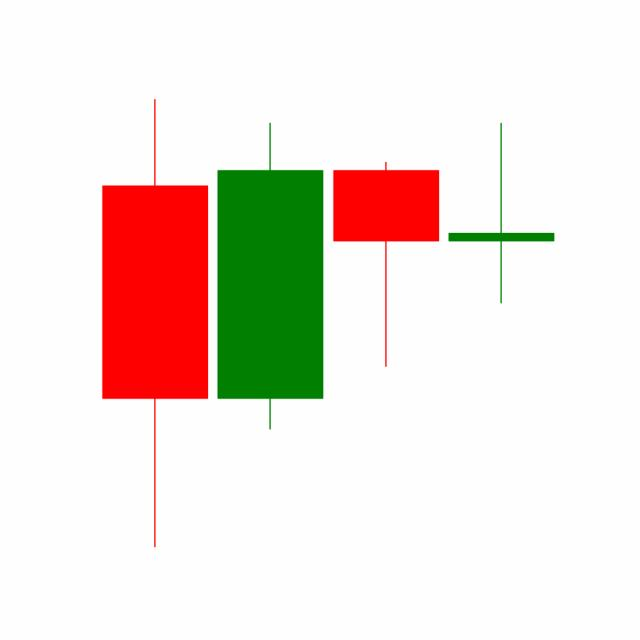Spinning Top: (443, 120, 559, 306)
